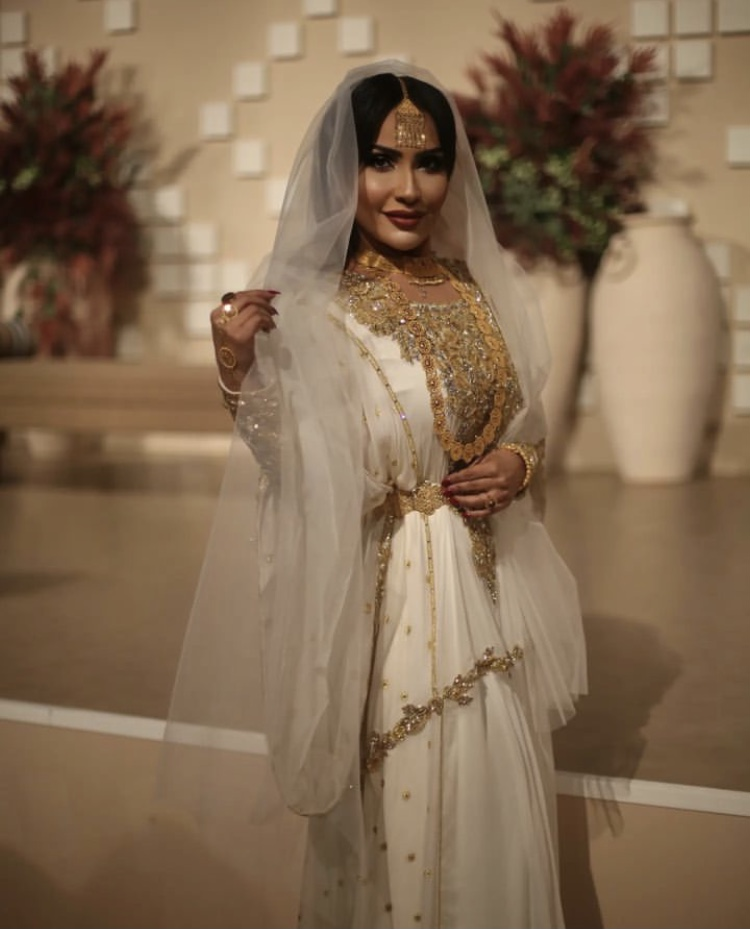Saudi_Founding_Day: (153, 60, 592, 929)
